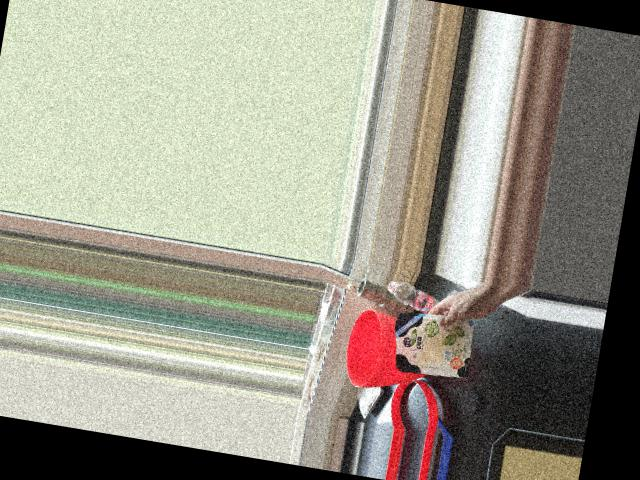cheese: (387, 293, 473, 381)
